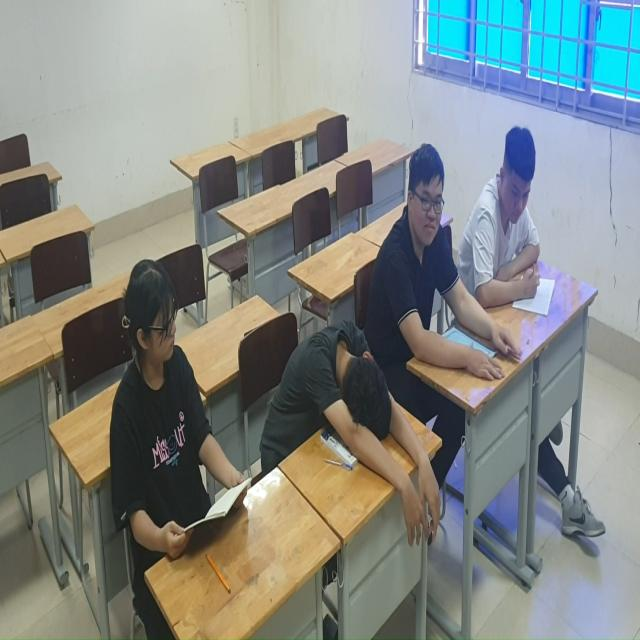read: (106, 238, 236, 575), (461, 115, 569, 325)
sleep: (274, 311, 410, 470)
